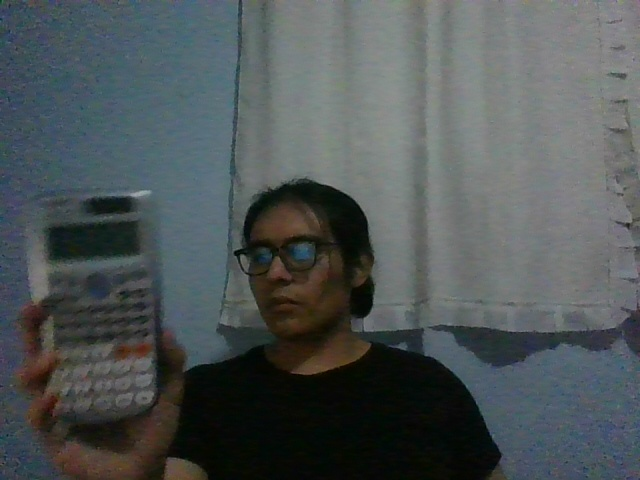calculadora: (28, 190, 160, 424)
